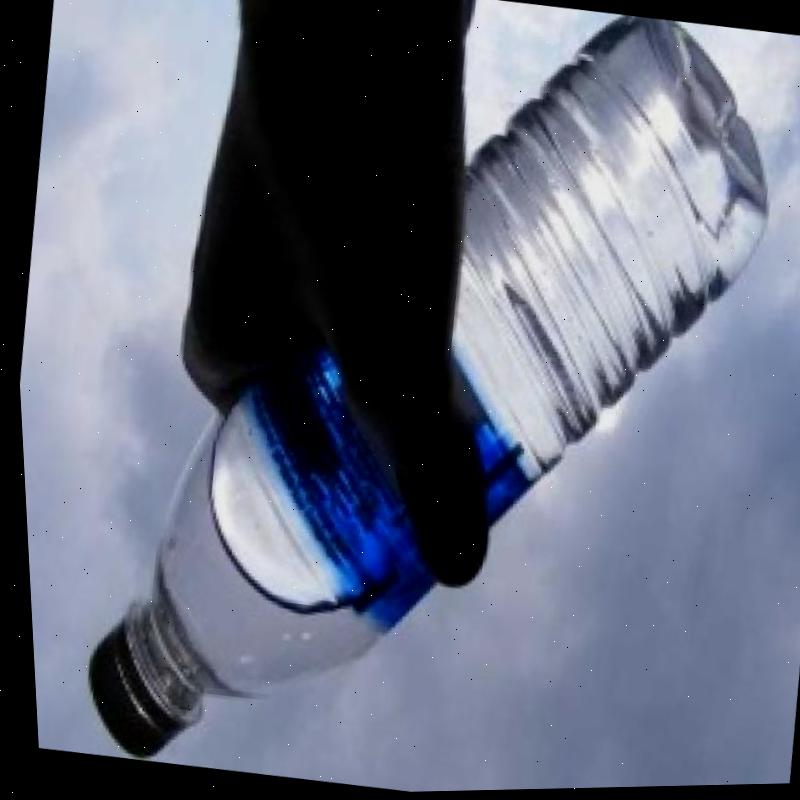botella: (41, 0, 800, 799)
